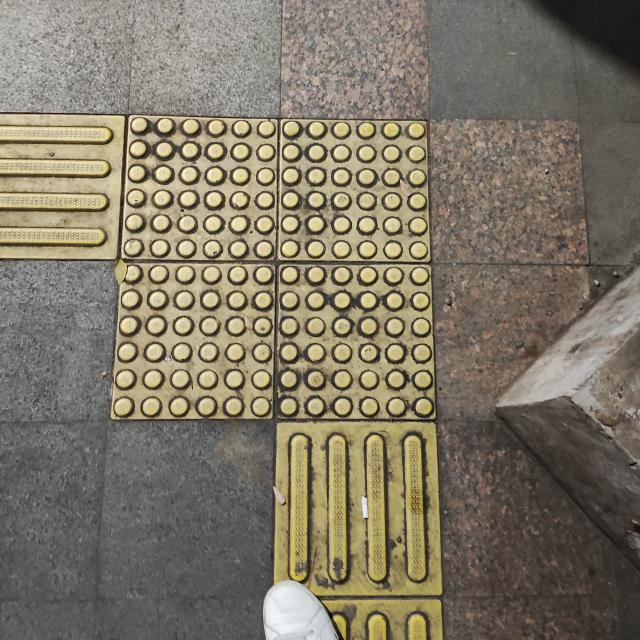kiri: (0, 59, 486, 511)
